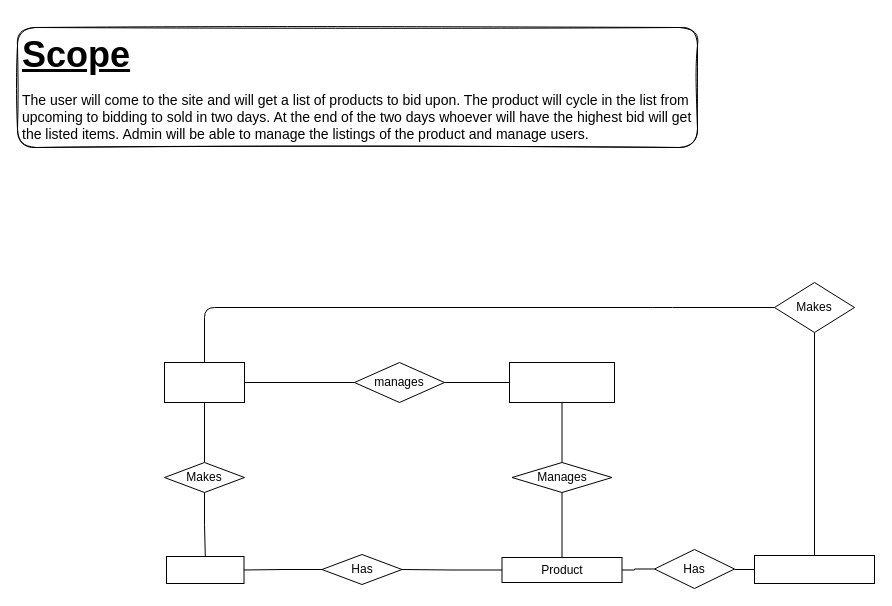
The diagram is 892 pixels wide and 606 high, and some of its shapes have lost their labels. The box of each missing label's shape, as (x1, y1, x2, y2) in pixels:
Admin: (508, 362, 614, 402)
Biddings: (166, 556, 244, 584)
Payment: (754, 554, 874, 584)
User: (164, 362, 244, 402)
